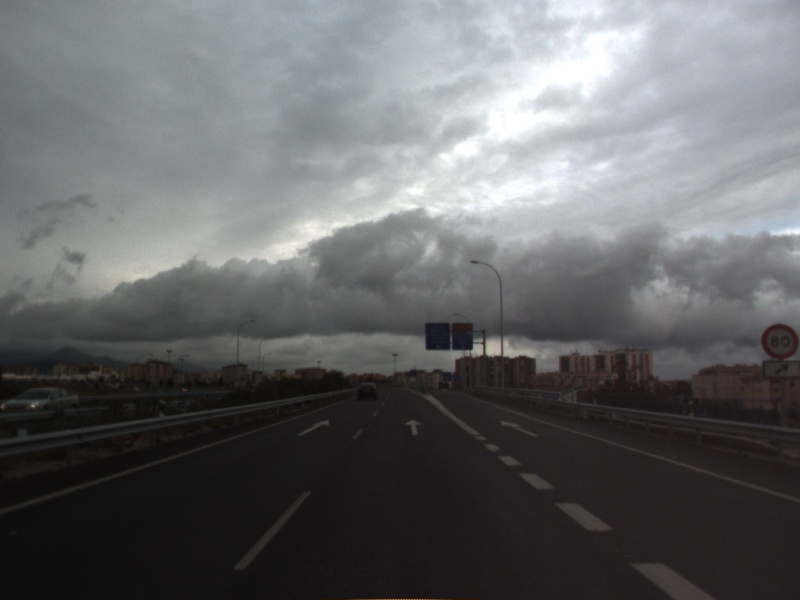STRAIGHT: (499, 418, 541, 438), (295, 417, 332, 437), (402, 417, 425, 437)
